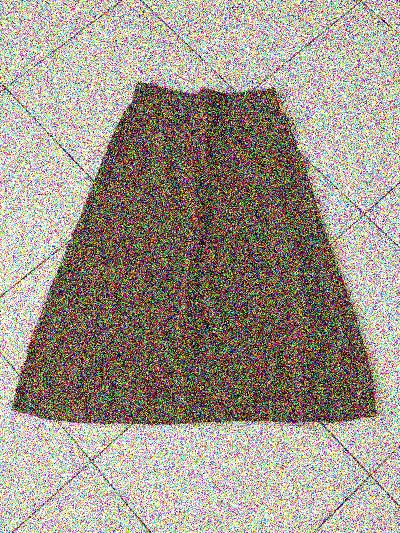Dress: (43, 73, 381, 451)
